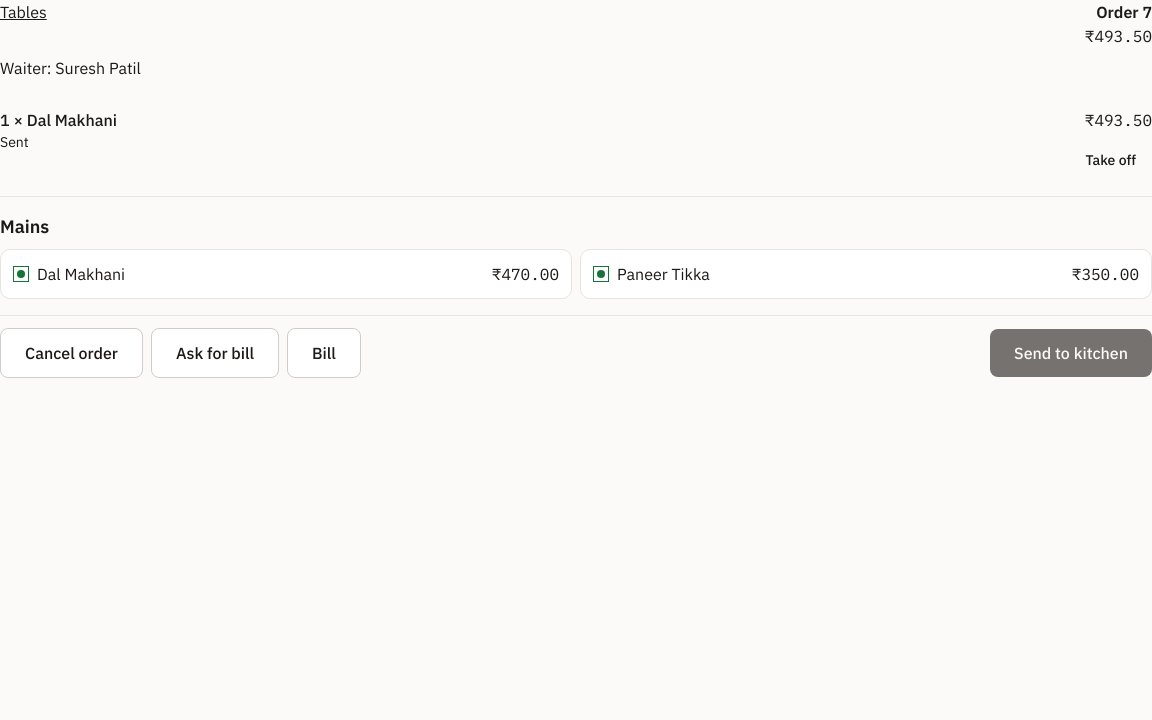
Test: asking for the bill and cancelling › says how many dishes already went to the kitchen before anyone confirms
The image size is (1152, 720).
Click the button "Cancel order" at {"x": 72, "y": 353}, box [0,328,143,378]
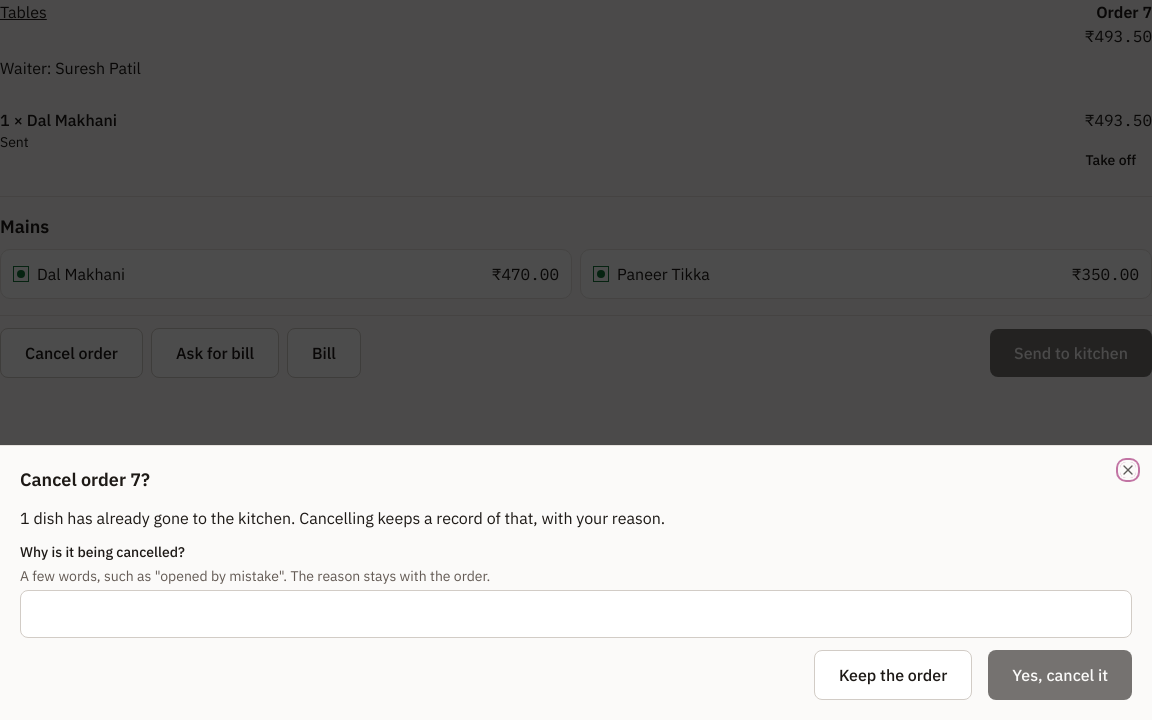
Now the text "1 dish has already gone to the kitchen" is shown, box [20,508,665,528]
